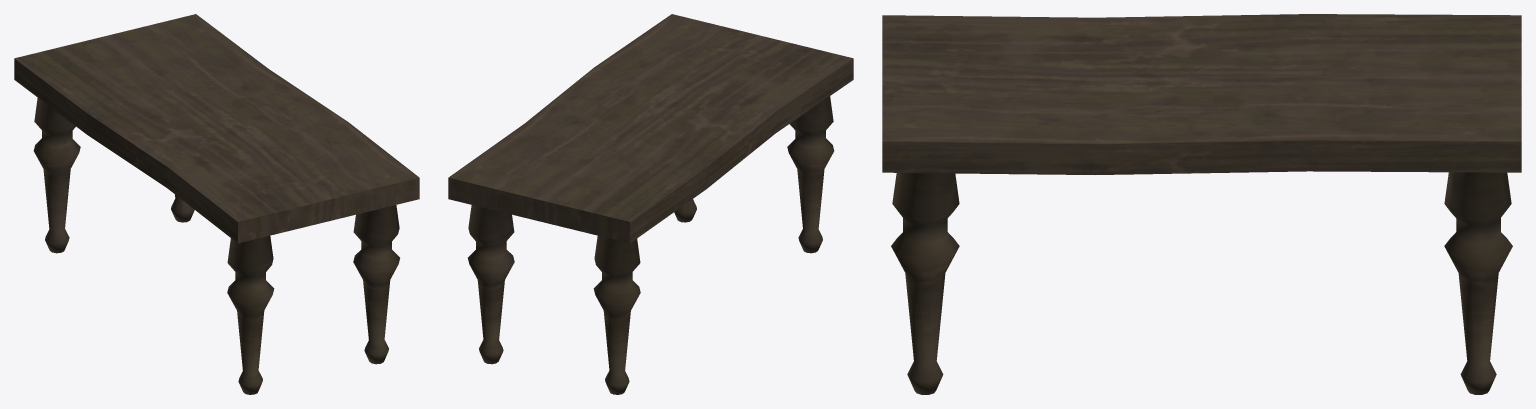
The model's file is SM_Prop_Table001.fbx.
The picture shows the model from 3 angles, left to right: view 1: azimuth 30°, elevation 25°; view 2: azimuth 150°, elevation 25°; view 3: azimuth 270°, elevation 25°; orthographic projection. The views are drawn at different scales.
Parts seen in each view (by area): view 1: Cube; view 2: Cube; view 3: Cube.
Part boxes in pixels (x1,y1,x2,y2): Cube: [14, 14, 419, 394]; Cube: [448, 14, 853, 394]; Cube: [882, 14, 1521, 394].
Size of the model in its own units: 78.24 by 74.99 by 162.
